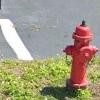a fire hydrant: (65, 33, 97, 89)
